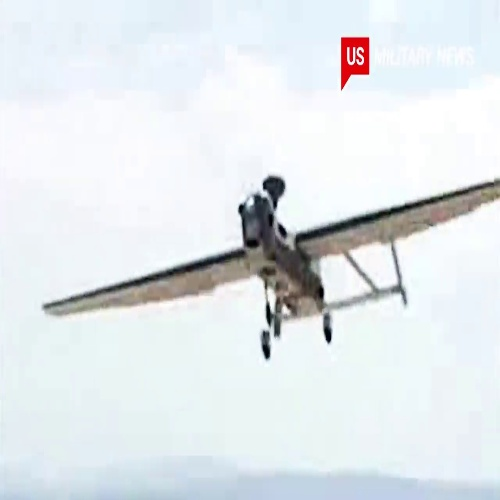uav: (44, 177, 500, 363)
